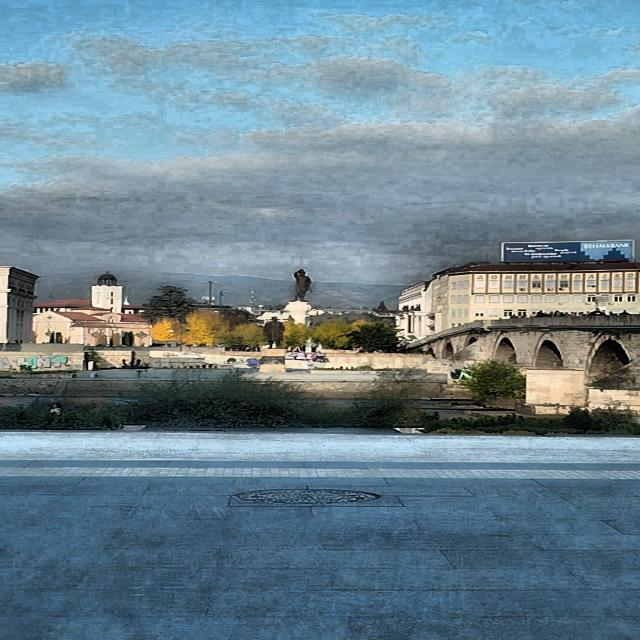Philip II of Macedonia: (278, 267, 326, 329)
stone bridge: (387, 312, 640, 398)
